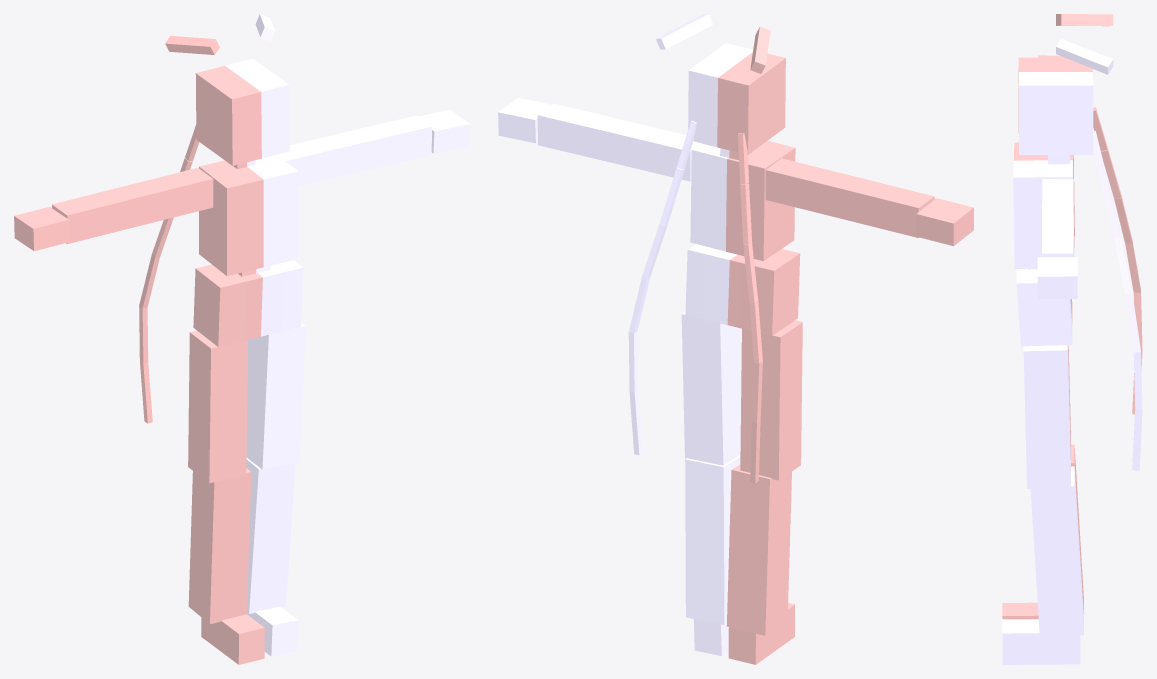
3 views of the same model, side by side, from view 1: azimuth 30°, elevation 25°; view 2: azimuth 150°, elevation 25°; view 3: azimuth 270°, elevation 25° (orthographic). The views are drawn at different scales.
Parts seen in each view (by area): view 1: Body, Head, LegR, UpperLegR, Hip, UpperLegL, LegL, UpperArmR, UpperArmL, ArmR, ArmL, FootR (+4 smaller); view 2: LegR, Body, Head, UpperLegL, UpperLegR, Hip, LegL, UpperArmR, UpperArmL, ArmR, ArmL, HandR (+4 smaller); view 3: Head, LegL, UpperLegL, Body, Hip, HootL, HandL, UpperArmL, ArmL, HeadRibbonL01, HeadRibbonR01, FootR (+12 smaller).
Part boxes in pixels (box(x1,y1,x2,y2)): Body: box(199, 154, 297, 275); Head: box(195, 58, 289, 165); LegR: box(188, 468, 251, 624); UpperLegR: box(188, 330, 247, 483); Hip: box(193, 260, 303, 346); UpperLegL: box(246, 323, 305, 469); LegL: box(246, 457, 295, 613); UpperArmR: box(111, 168, 213, 228); UpperArmL: box(277, 129, 372, 186); ArmR: box(52, 189, 127, 243); ArmL: box(358, 115, 431, 169); FootR: box(201, 614, 264, 664); LegR: box(726, 464, 791, 635); Body: box(690, 140, 795, 260); Head: box(688, 43, 785, 154); UpperLegL: box(681, 311, 741, 465); UpperLegR: box(740, 320, 802, 480); Hip: box(685, 244, 800, 335); LegL: box(685, 455, 740, 625); UpperArmR: box(765, 158, 872, 222); UpperArmL: box(599, 118, 700, 181); ArmR: box(856, 181, 934, 237); ArmL: box(537, 103, 615, 159); HandR: box(916, 198, 973, 246); Head: box(1018, 57, 1093, 154); LegL: box(1030, 466, 1083, 637); UpperLegL: box(1023, 345, 1070, 488); Body: box(1013, 142, 1074, 268); Hip: box(1016, 269, 1072, 346); HootL: box(1002, 619, 1080, 664); HandL: box(1037, 257, 1077, 298); UpperArmL: box(1042, 179, 1073, 223); ArmL: box(1042, 223, 1073, 257); HeadRibbonL01: box(1056, 38, 1113, 74); HeadRibbonR01: box(1056, 14, 1113, 26); FootR: box(1002, 602, 1038, 619).
Size of the model in its own units: 1.18 by 1.56 by 0.3182.
